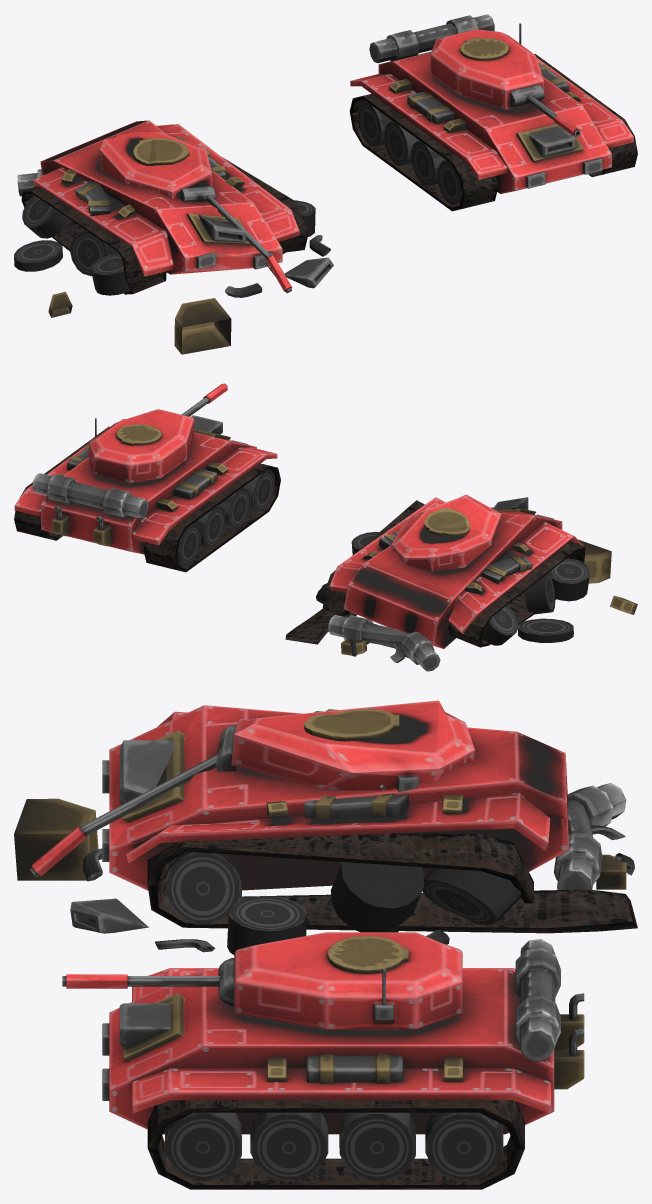
File: Tank_all.fbx
3 views of the same model, one above another, from view 1: azimuth 30°, elevation 25°; view 2: azimuth 150°, elevation 25°; view 3: azimuth 270°, elevation 25° (orthographic). The views are drawn at different scales.
Parts seen in each view (by area): view 1: TankBrokenLow, polySurface31; view 2: TankBrokenLow, polySurface31; view 3: TankBrokenLow, polySurface31.
Part boxes in pixels (bbox=[...]): TankBrokenLow: bbox=[14, 120, 333, 354]; polySurface31: bbox=[349, 14, 637, 211]; TankBrokenLow: bbox=[285, 494, 637, 671]; polySurface31: bbox=[14, 383, 280, 572]; TankBrokenLow: bbox=[14, 700, 637, 954]; polySurface31: bbox=[62, 932, 584, 1189].
Bounding box in the file's own units: 14.02 × 3.34 × 8.12.
